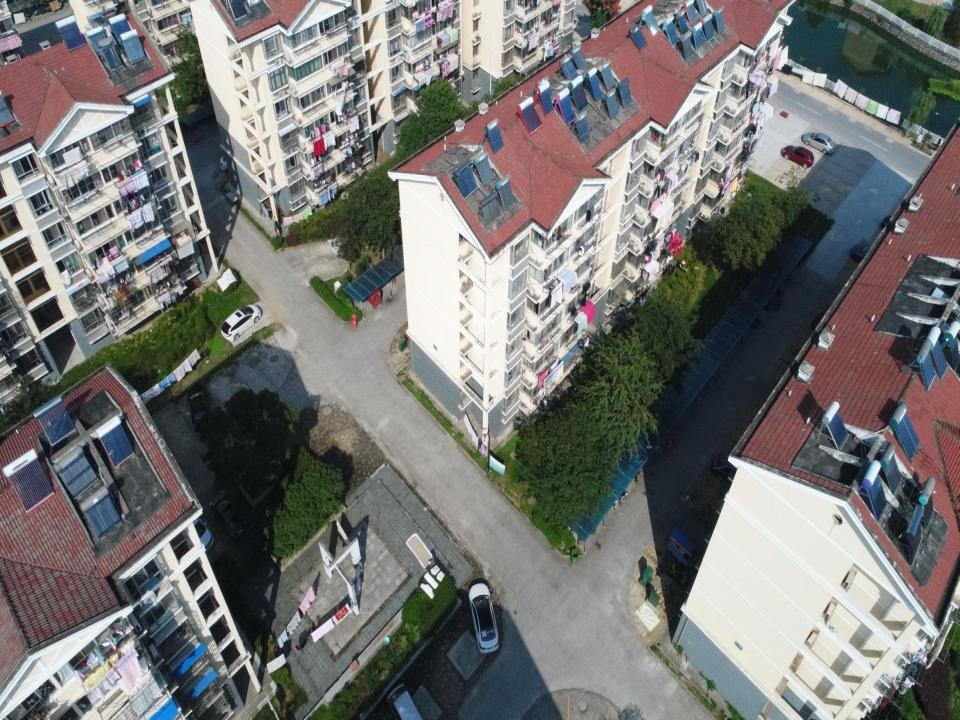car: (468, 582, 500, 654), (210, 491, 248, 540), (175, 510, 213, 555), (220, 304, 262, 342), (187, 382, 211, 433), (712, 453, 742, 481), (781, 145, 815, 169), (802, 132, 836, 155), (811, 312, 839, 334), (850, 243, 880, 263), (219, 154, 244, 171), (882, 216, 906, 230)
van: (386, 683, 424, 719)
